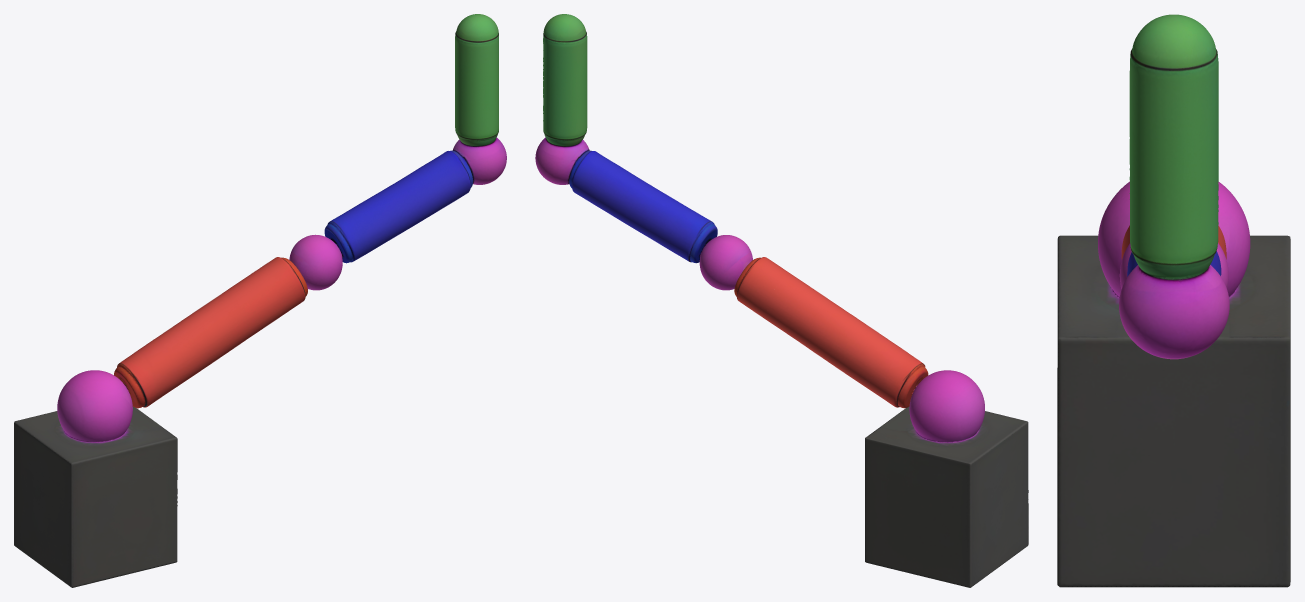
3 views of the same model, side by side, from view 1: azimuth 30°, elevation 25°; view 2: azimuth 150°, elevation 25°; view 3: azimuth 270°, elevation 25° (orthographic). The views are drawn at different scales.
Visible parts, largest first — view 1: tripo_node_7b10c602-ded1-42e4-9f50-ce1ad23cba72; view 2: tripo_node_7b10c602-ded1-42e4-9f50-ce1ad23cba72; view 3: tripo_node_7b10c602-ded1-42e4-9f50-ce1ad23cba72.
Boxes of the visible parts, x1,y1,x2,y2 form: tripo_node_7b10c602-ded1-42e4-9f50-ce1ad23cba72: (14, 14, 506, 587); tripo_node_7b10c602-ded1-42e4-9f50-ce1ad23cba72: (535, 14, 1028, 587); tripo_node_7b10c602-ded1-42e4-9f50-ce1ad23cba72: (1057, 14, 1290, 587).
Size of the model in its own units: 1 by 0.9236 by 0.2194.
1 material, 1 textured.
